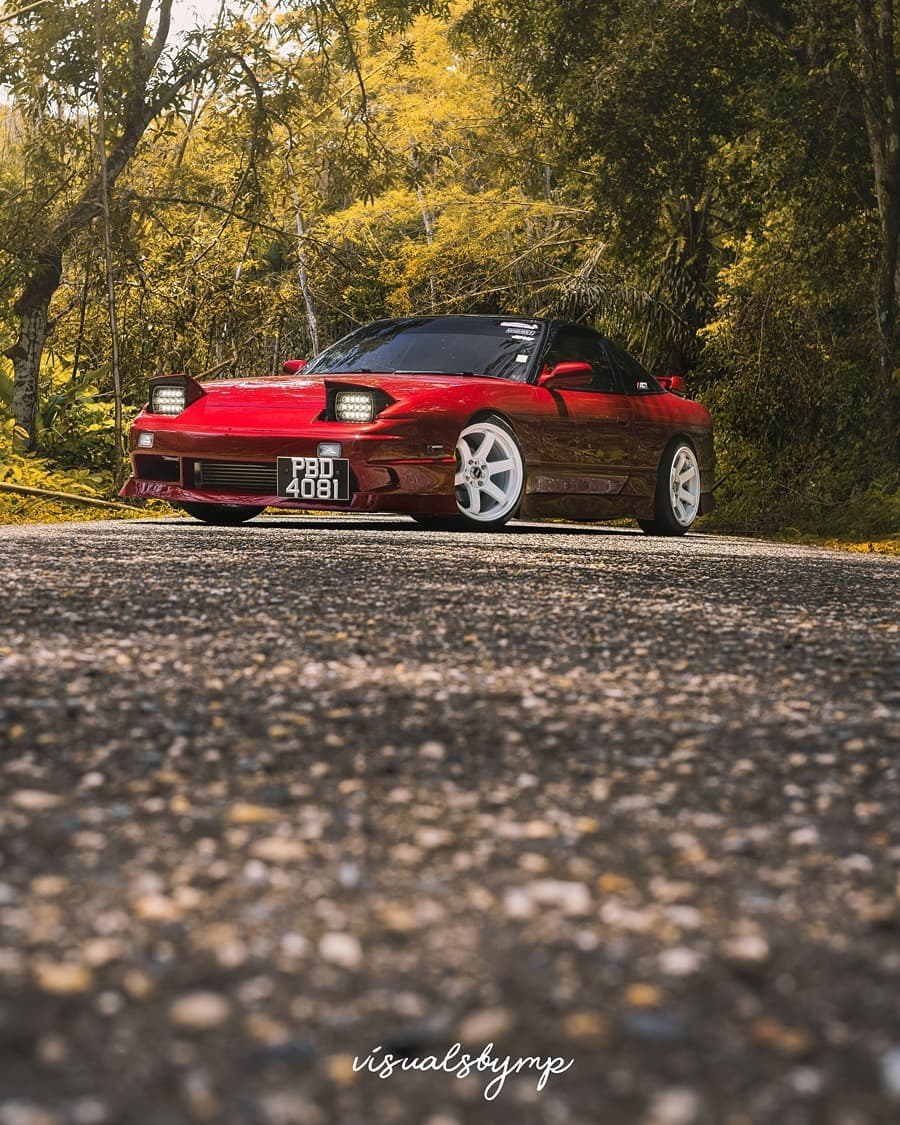License-Plate: (278, 456, 348, 497)
